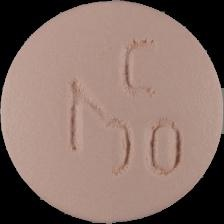0378-1300: (0, 0, 224, 224)
